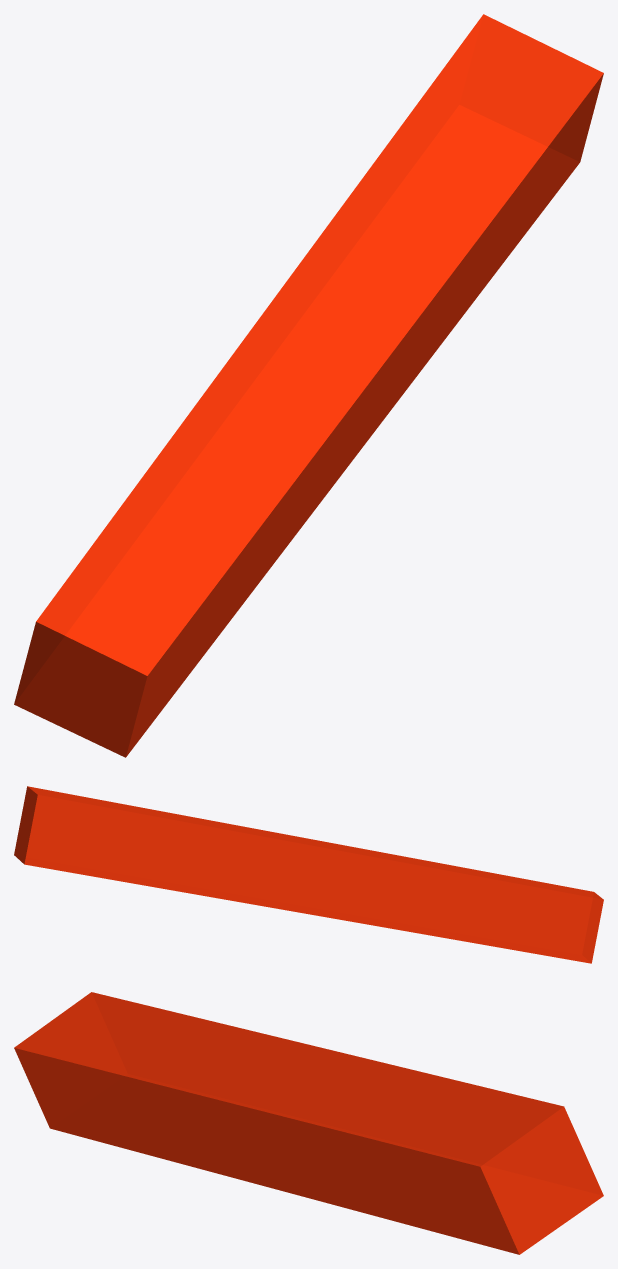
The model's file is Event_421115418_EBrechit_48.fbx.
The picture shows the model from 3 angles, top to bottom: view 1: azimuth 30°, elevation 25°; view 2: azimuth 150°, elevation 25°; view 3: azimuth 270°, elevation 25°; orthographic projection. The views are drawn at different scales.
Parts seen in each view (by area): view 1: Model; view 2: Model; view 3: Model.
Part boxes in pixels (x1,y1,x2,y2): Model: (14, 14, 603, 757); Model: (14, 786, 603, 963); Model: (14, 992, 603, 1254).
Bounding box in the file's own units: 0.4418 × 0.1855 × 0.3399.
